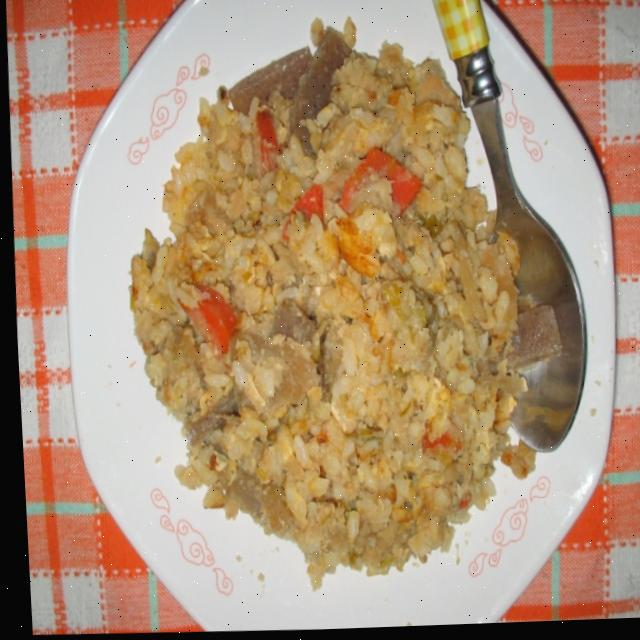米饭主食: (36, 0, 640, 639)
